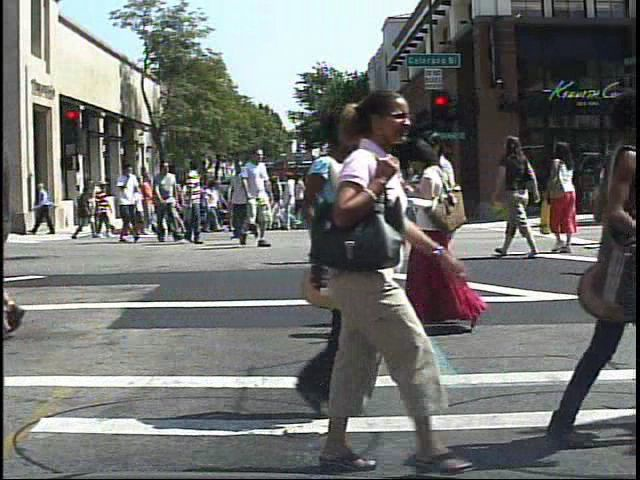person: (255, 84, 457, 480), (411, 133, 487, 338), (433, 126, 494, 341), (323, 135, 379, 269), (496, 133, 545, 262), (542, 137, 585, 259), (235, 146, 269, 252), (600, 145, 633, 249), (174, 156, 207, 247), (150, 157, 183, 246), (112, 160, 142, 244), (89, 177, 115, 241), (78, 182, 98, 231), (384, 143, 385, 264)
